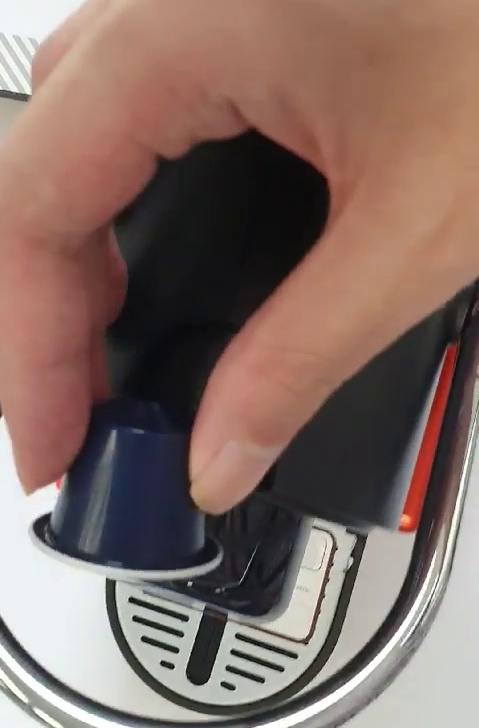capsule_1: (30, 397, 232, 585)
